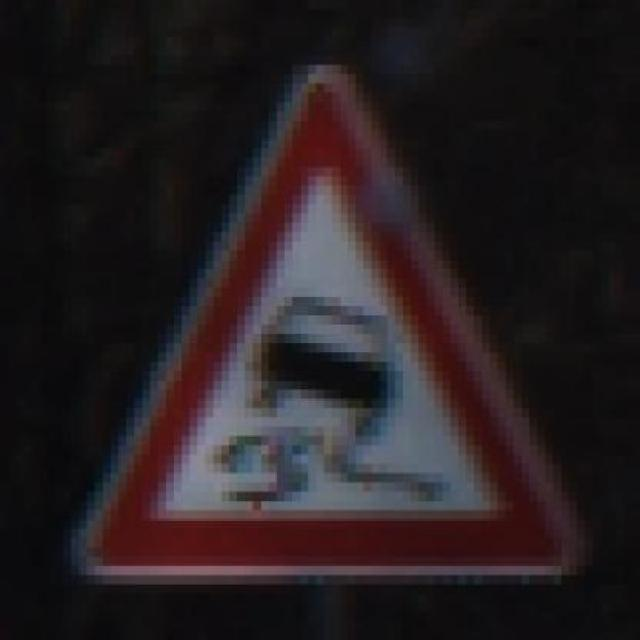Slippery Road Ahead: (62, 46, 590, 583)
